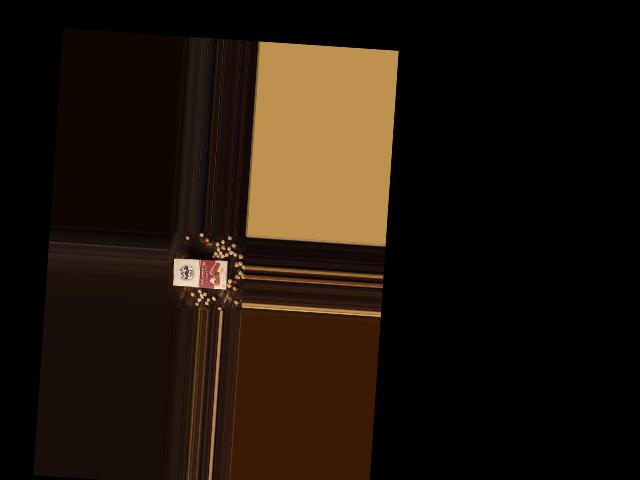chocolate: (170, 254, 229, 291)
